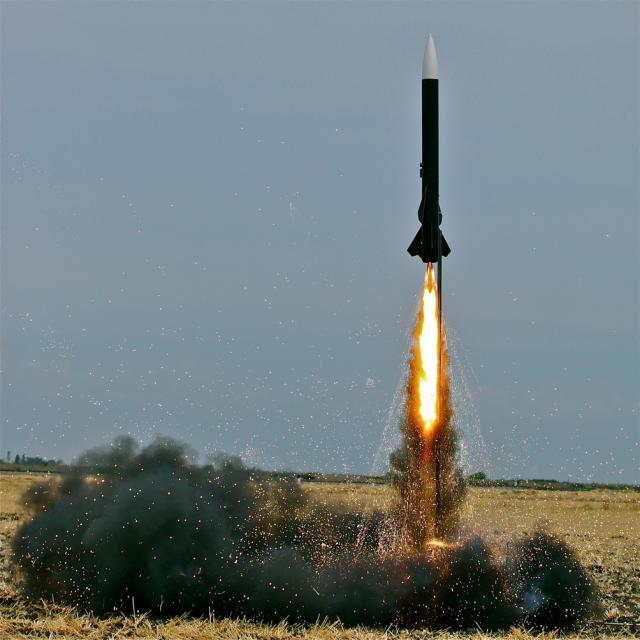Missile: (391, 32, 470, 293)
